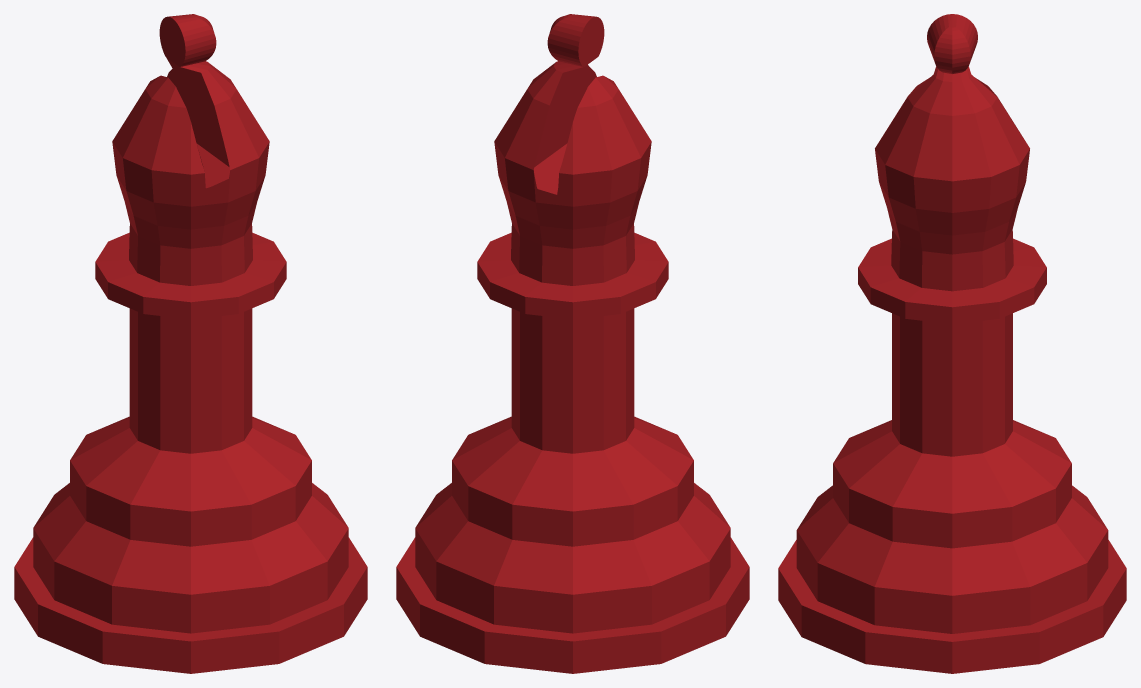
Rendered from lowpoly_b_b.glb.
The picture shows the model from 3 angles, left to right: view 1: azimuth 30°, elevation 25°; view 2: azimuth 150°, elevation 25°; view 3: azimuth 270°, elevation 25°; orthographic projection.
Parts seen in each view (by area): view 1: Bishop.002; view 2: Bishop.002; view 3: Bishop.002.
Part boxes in pixels (x1,y1,x2,y2): Bishop.002: (14, 14, 367, 673); Bishop.002: (396, 14, 749, 673); Bishop.002: (778, 14, 1126, 673).
Size of the model in its own units: 0.0821 by 0.1501 by 0.0821.
